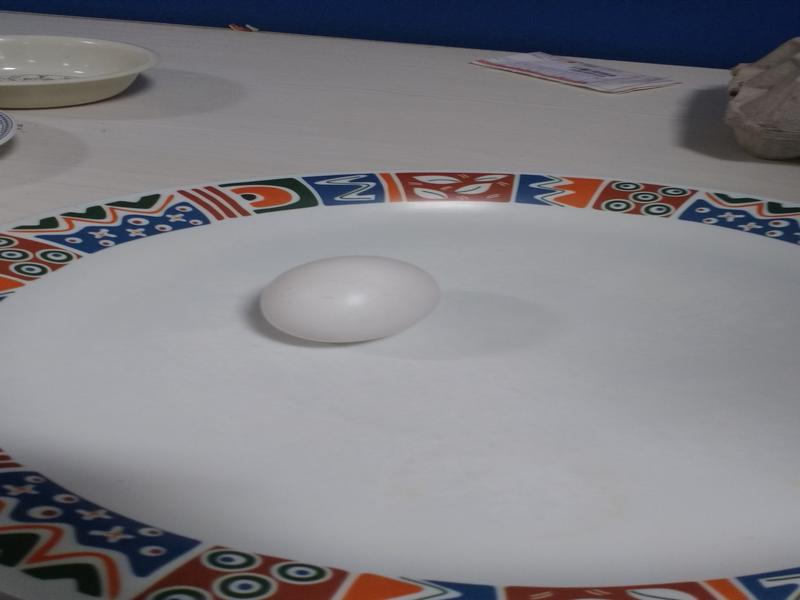egg: (256, 253, 442, 343)
